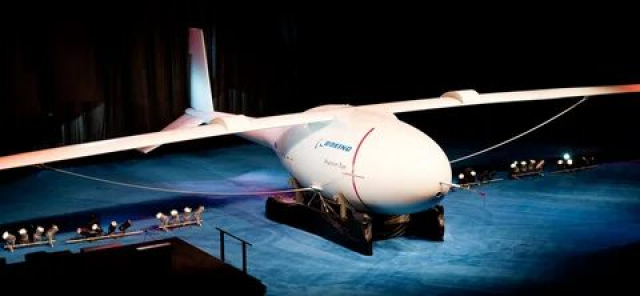military drone: (0, 28, 640, 216)
